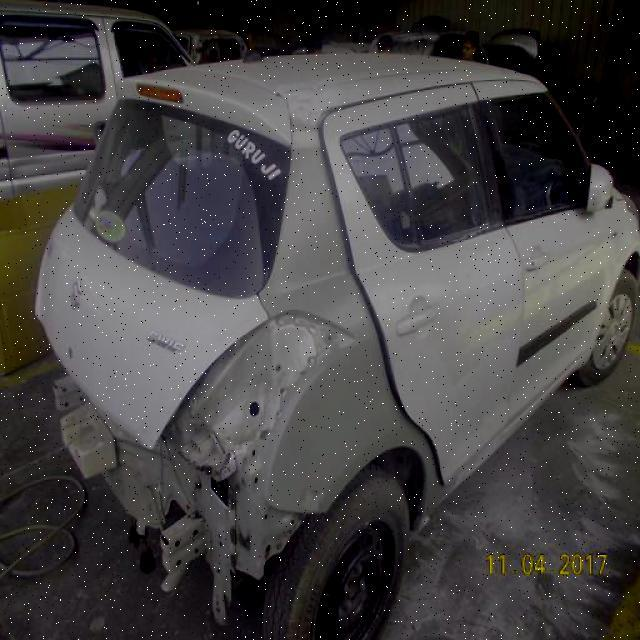car damage: (57, 307, 358, 619), (258, 116, 453, 532)
